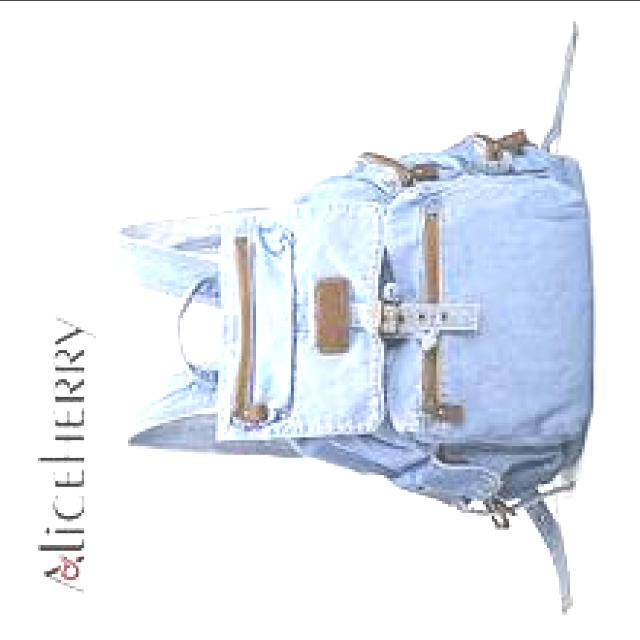backpack: (112, 18, 595, 618)
